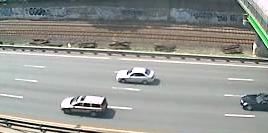car: (58, 92, 110, 118), (114, 65, 160, 87)
